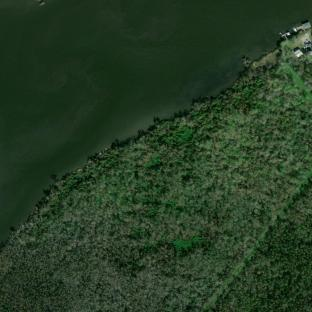Floresta: (0, 48, 312, 312)
